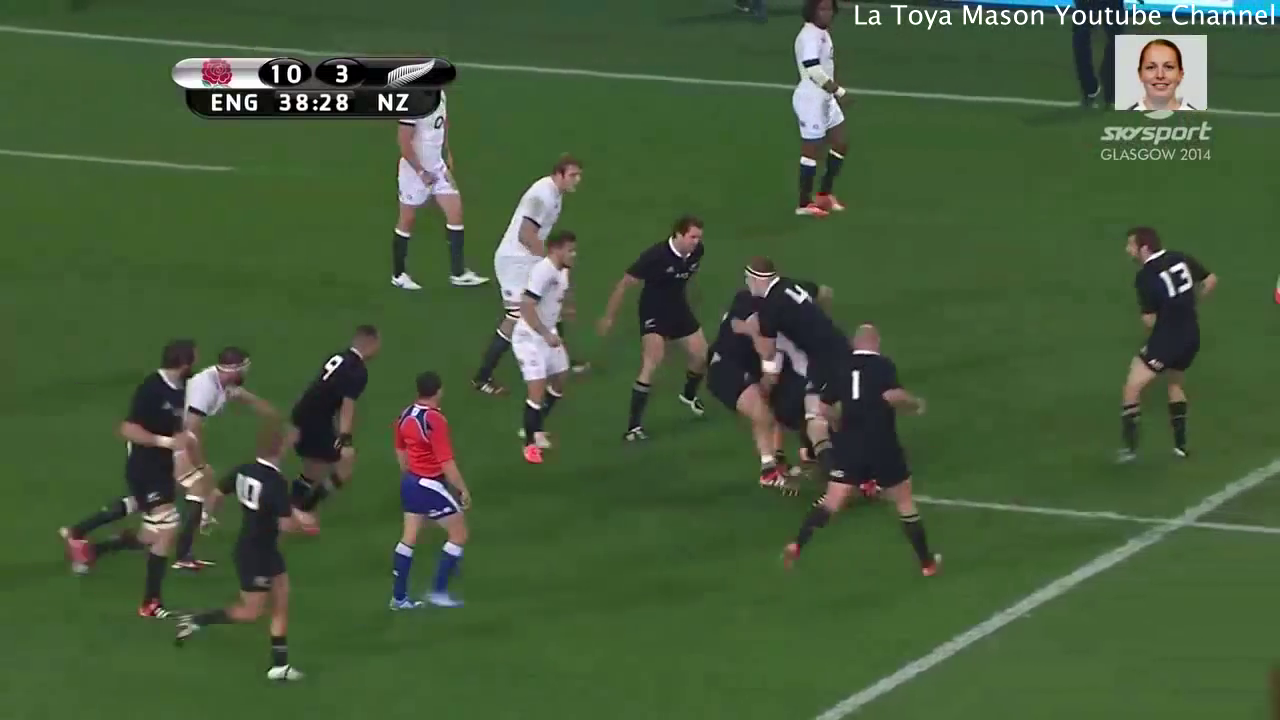player: (44, 330, 208, 625), (781, 320, 945, 591), (178, 435, 306, 685), (1112, 217, 1218, 475), (601, 214, 705, 451), (384, 366, 471, 620), (288, 324, 381, 542), (739, 260, 853, 424), (699, 281, 786, 485), (782, 1, 861, 225), (510, 227, 584, 466), (393, 121, 493, 296), (497, 153, 593, 274), (194, 336, 265, 443)
